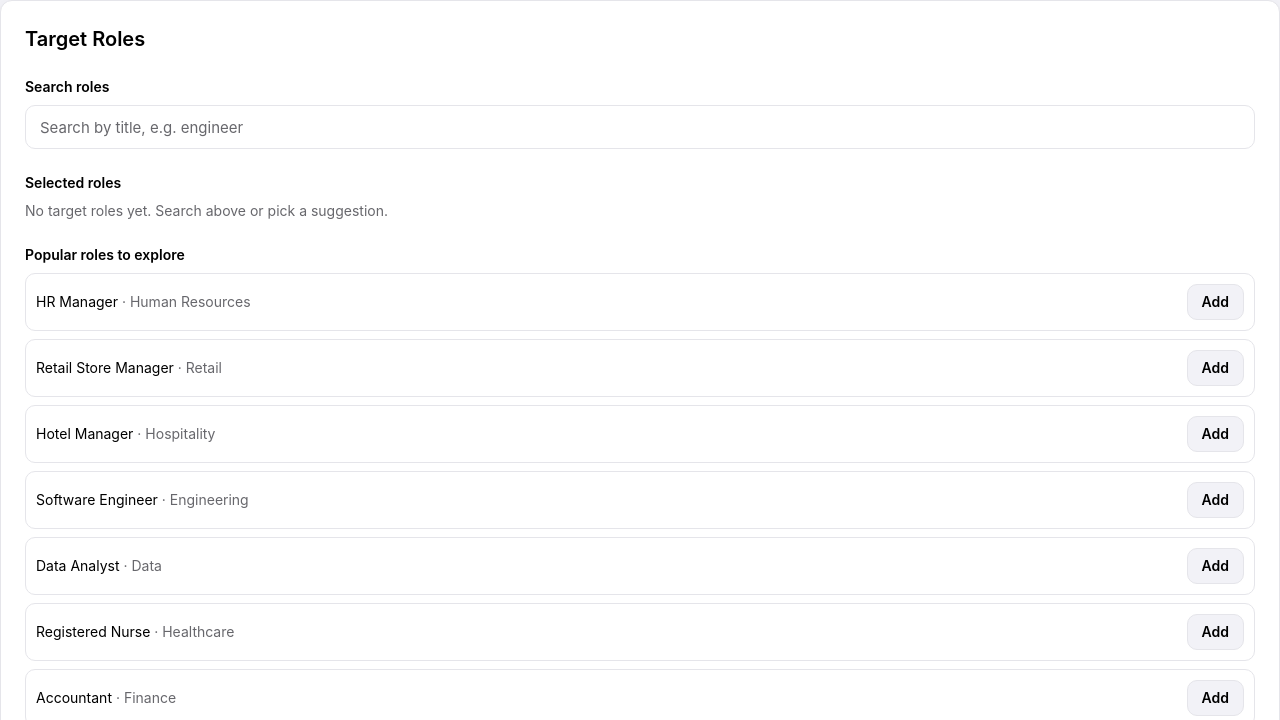
it: phrase confirmation › shows the canonical occupation and the preference wording, and does not save on its own
expect the text "No target roles yet. Search above or pick a suggestion." is shown: met, box [25, 202, 388, 219]
Type "Azure Data Engineer" into the dropdown named "Search target roles" at (640, 127), box [25, 105, 1255, 149]
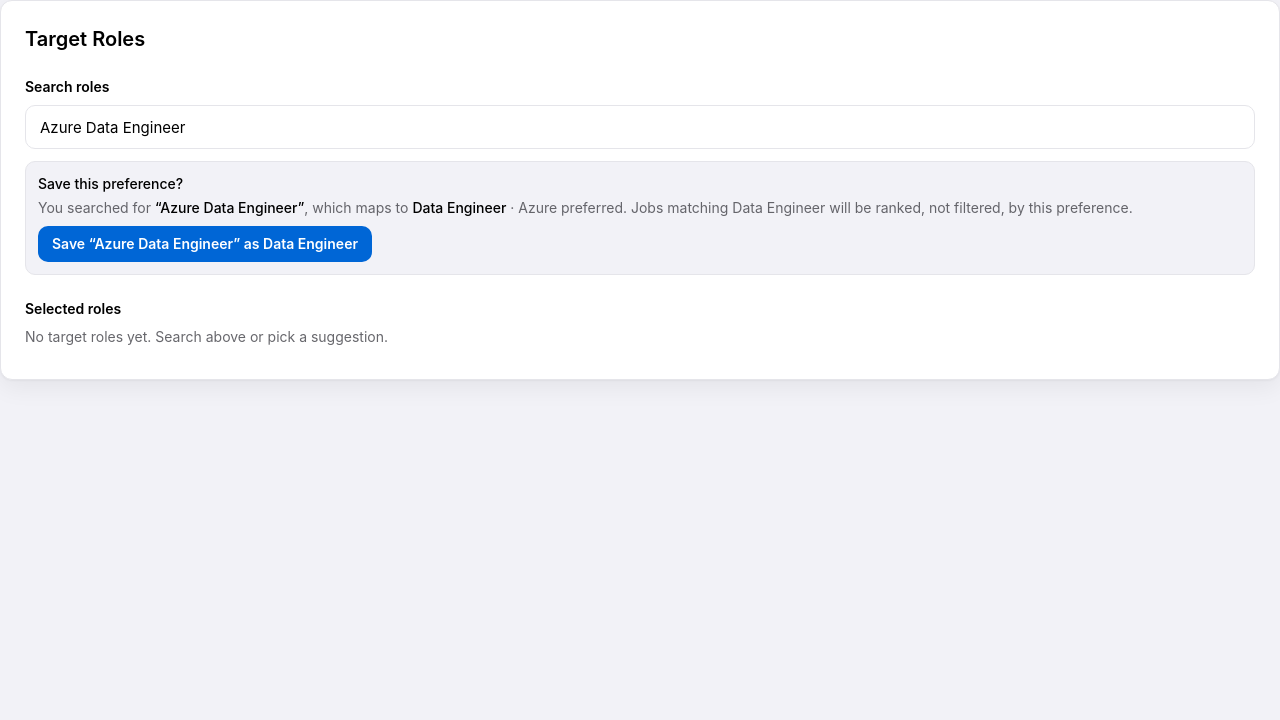
expect the text "Save this preference?" is shown: met, box [38, 175, 183, 192]
expect the text "maps to" is shown: met, box [304, 199, 408, 216]
expect the text "Azure preferred" is shown: met, box [518, 199, 623, 216]
